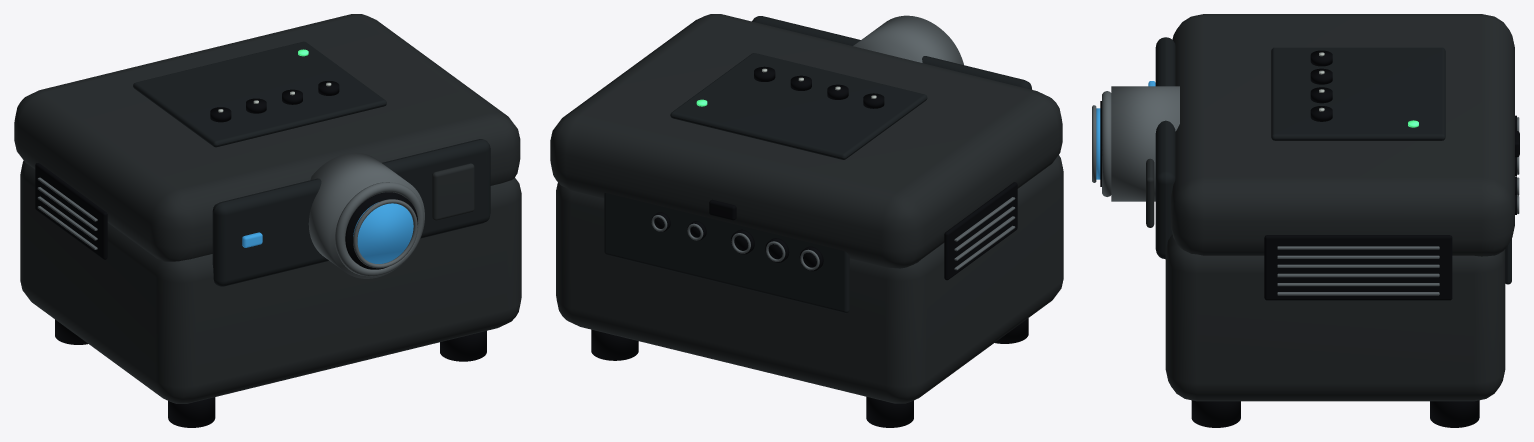
Rendered from projector.glb.
The picture shows the model from 3 angles, left to right: view 1: azimuth 30°, elevation 25°; view 2: azimuth 150°, elevation 25°; view 3: azimuth 270°, elevation 25°; orthographic projection. The views are drawn at different scales.
Visible parts, largest first — view 1: Projector lower chassis, Top shell, Top control inset, Front optical bezel, Lens outer barrel, Left intake recess, Coated projection lens, Machined lens retaining ring, Lens shift access cover, Rubber isolation foot, Rubber isolation foot.002, Lens shadow gasket (+1 smaller); view 2: Top shell, Projector lower chassis, Top control inset, Rear connection panel, Lens outer barrel, Left intake recess, Front optical bezel, Rubber isolation foot.001, Rubber isolation foot.003; view 3: Top shell, Projector lower chassis, Top control inset, Right ventilation recess, Lens outer barrel, Front optical bezel, Rubber isolation foot.002, Rubber isolation foot.003, Machined lens retaining ring, Ventilation slat.002, Ventilation slat.005, Ventilation slat (+4 smaller).
Part boxes in pixels (<box>): Projector lower chassis: <box>20,160,521,403</box>; Top shell: <box>14,14,520,261</box>; Top control inset: <box>133,41,386,147</box>; Front optical bezel: <box>212,139,490,286</box>; Lens outer barrel: <box>308,153,424,278</box>; Left intake recess: <box>35,163,107,259</box>; Coated projection lens: <box>353,202,413,263</box>; Machined lens retaining ring: <box>335,182,423,276</box>; Lens shift access cover: <box>432,163,474,220</box>; Rubber isolation foot: <box>168,397,215,427</box>; Rubber isolation foot.002: <box>440,331,486,361</box>; Lens shadow gasket: <box>345,192,417,269</box>; Top shell: <box>550,14,1062,268</box>; Projector lower chassis: <box>556,155,1063,403</box>; Top control inset: <box>670,53,927,159</box>; Rear connection panel: <box>604,193,849,313</box>; Lens outer barrel: <box>853,15,963,64</box>; Left intake recess: <box>944,182,1017,280</box>; Front optical bezel: <box>752,16,1032,89</box>; Rubber isolation foot.001: <box>866,396,913,427</box>; Rubber isolation foot.003: <box>591,329,638,360</box>; Top shell: <box>1171,14,1514,256</box>; Projector lower chassis: <box>1165,234,1505,401</box>; Top control inset: <box>1271,47,1445,140</box>; Right ventilation recess: <box>1264,235,1452,300</box>; Lens outer barrel: <box>1111,86,1179,201</box>; Front optical bezel: <box>1155,37,1175,259</box>; Rubber isolation foot.002: <box>1191,400,1240,427</box>; Rubber isolation foot.003: <box>1430,400,1479,427</box>; Machined lens retaining ring: <box>1102,91,1111,196</box>; Ventilation slat.002: <box>1277,273,1439,277</box>; Ventilation slat.005: <box>1277,246,1439,249</box>; Ventilation slat: <box>1277,292,1439,295</box>.
Size of the model in its own units: 0.502 by 0.319 by 0.4664.
